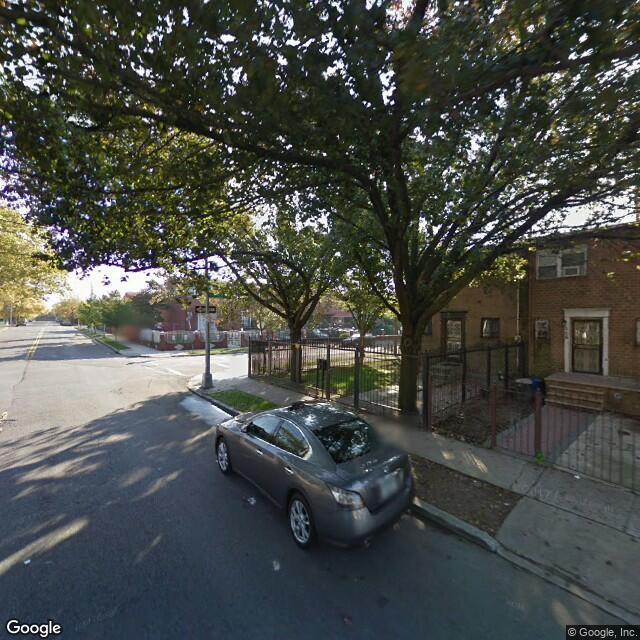litter: (243, 496, 257, 503), (24, 558, 30, 563), (573, 475, 579, 479)
